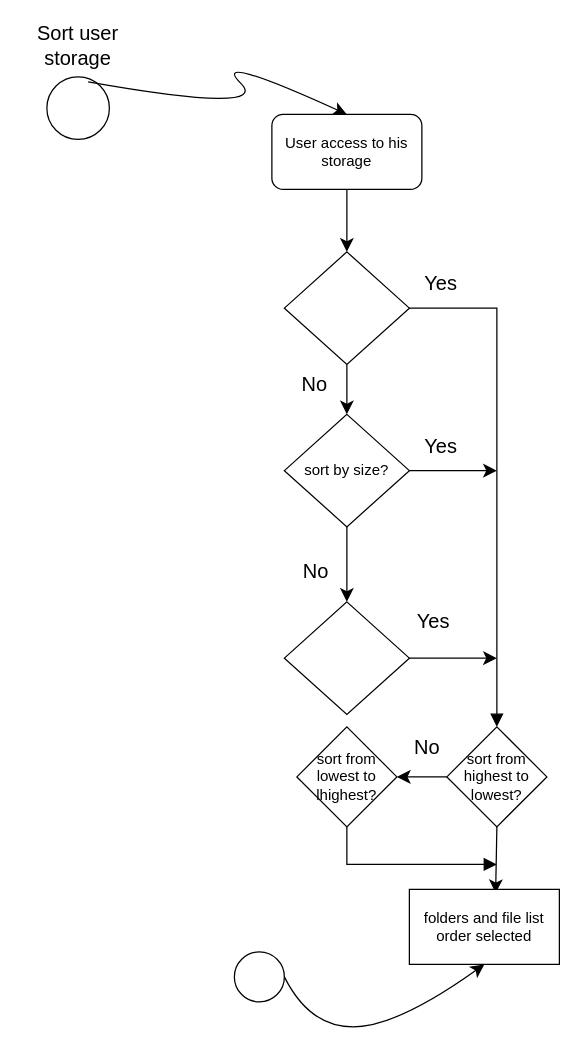
Image size: 581x1049. Some labels were removed from this diagram. Each missing label, with the centre of its shape:
"sort by date?" goes at point 346,657.
"sort by name?" goes at point 346,307.
